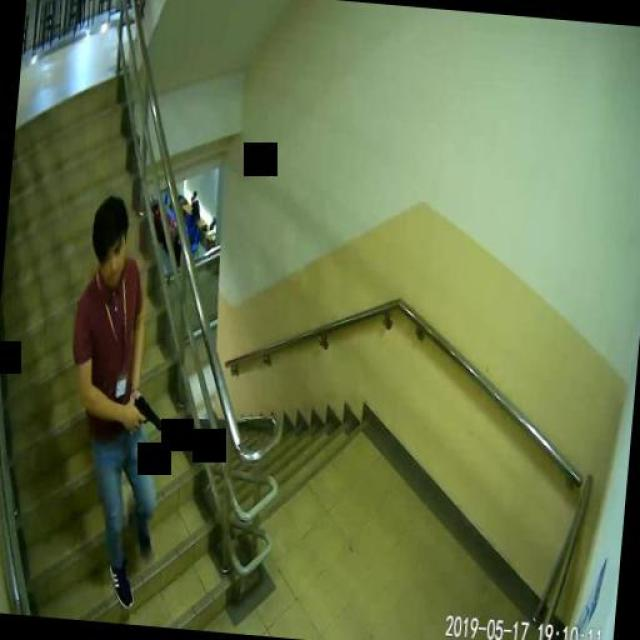gun: (130, 392, 164, 430)
